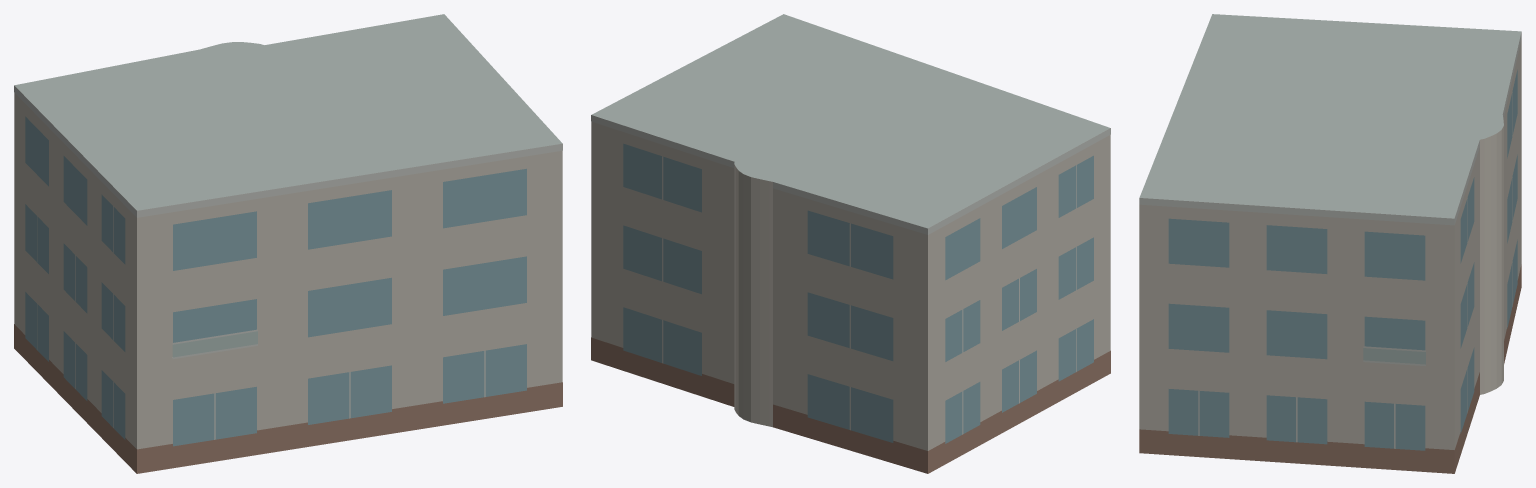
Rendered from survey-upis-32603423.glb.
3 views of the same model, side by side, from view 1: azimuth 30°, elevation 25°; view 2: azimuth 150°, elevation 25°; view 3: azimuth 270°, elevation 25° (orthographic). The views are drawn at different scales.
Parts seen in each view (by area): view 1: survey-upis-32603423.tmp; view 2: survey-upis-32603423.tmp; view 3: survey-upis-32603423.tmp.
Part boxes in pixels (x1,y1,x2,y2): survey-upis-32603423.tmp: [14, 14, 562, 473]; survey-upis-32603423.tmp: [591, 14, 1110, 473]; survey-upis-32603423.tmp: [1139, 14, 1521, 473].
Bounding box in the file's own units: 15.74 × 9.15 × 12.43.
